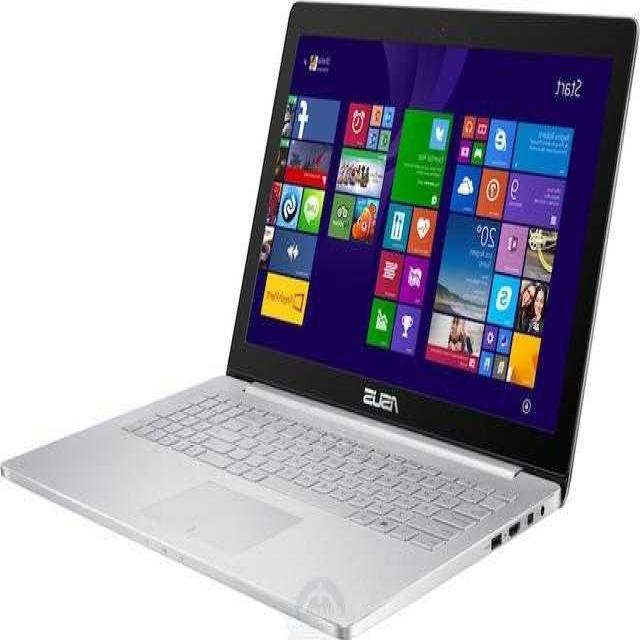laptop: (0, 8, 633, 604)
